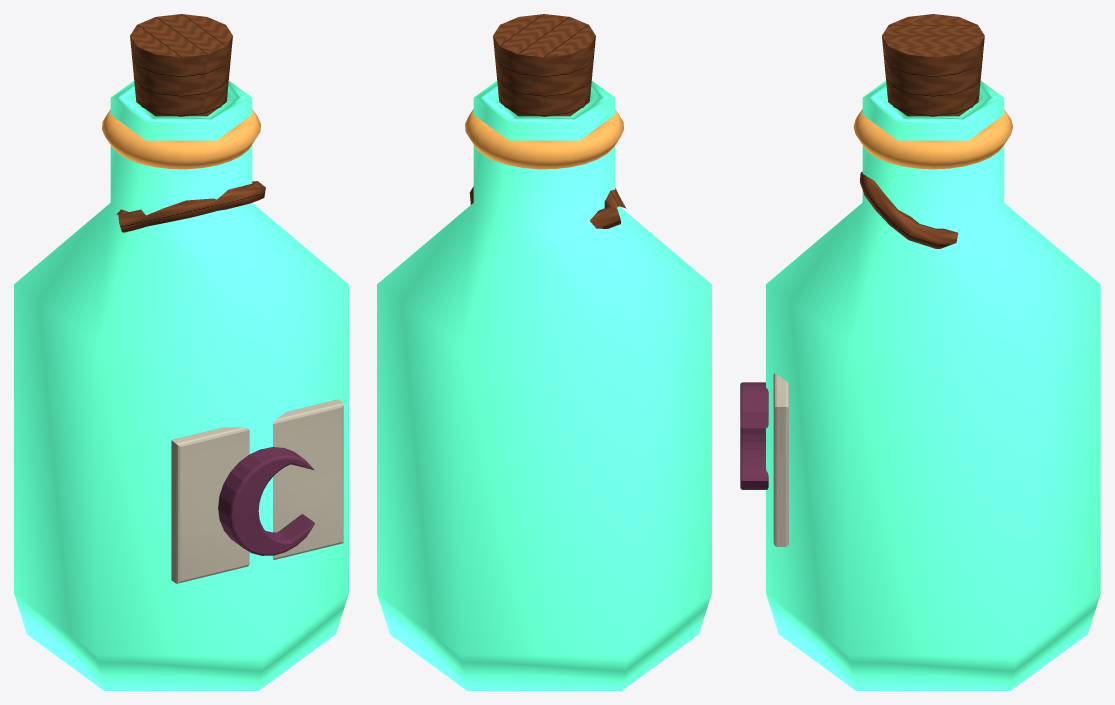
Rendered from hollowwick-halloween-hexagonal-poison-bottle-e2e0cbbc__21605.glb.
The picture shows the model from 3 angles, left to right: view 1: azimuth 30°, elevation 25°; view 2: azimuth 150°, elevation 25°; view 3: azimuth 270°, elevation 25°; orthographic projection.
Visible parts, largest first — view 1: hexagonal-poison-bottle; view 2: hexagonal-poison-bottle; view 3: hexagonal-poison-bottle.
Boxes of the visible parts, x1,y1,x2,y2 form: hexagonal-poison-bottle: (14,14,348,690); hexagonal-poison-bottle: (377,14,711,690); hexagonal-poison-bottle: (740,14,1100,690).
Size of the model in its own units: 0.2251 by 0.513 by 0.28.
Materials: 5 (3 with a texture image).
